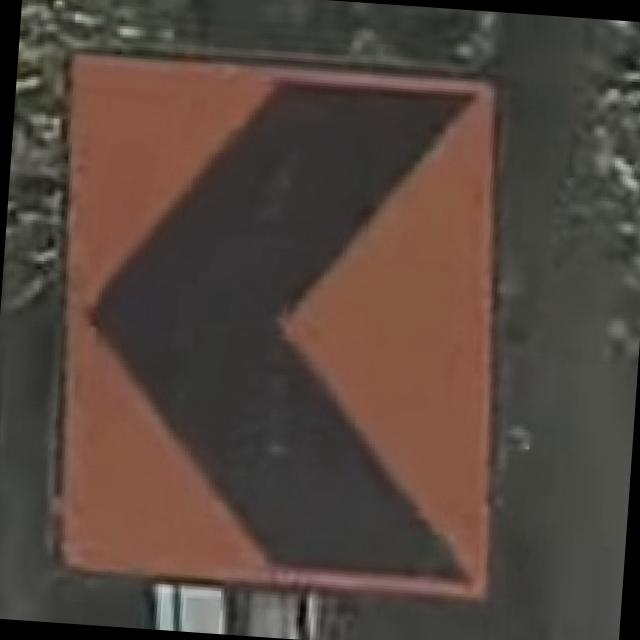curveleft_sign: (24, 41, 529, 607)
